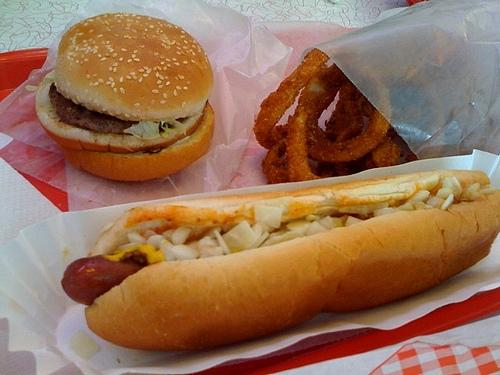onion: (295, 63, 390, 164), (252, 49, 330, 149), (372, 136, 420, 168), (262, 138, 288, 184), (258, 228, 304, 247), (201, 226, 231, 254), (335, 87, 350, 138), (338, 202, 388, 217), (254, 204, 283, 229), (356, 90, 376, 118), (245, 231, 269, 250), (172, 244, 200, 260), (159, 240, 178, 262), (442, 176, 462, 196), (304, 221, 329, 237), (459, 182, 480, 201), (171, 226, 191, 244), (406, 189, 430, 204), (318, 215, 340, 230), (197, 236, 219, 251), (146, 234, 166, 250), (374, 207, 398, 217), (127, 232, 147, 244), (426, 196, 444, 209), (115, 242, 140, 251), (440, 194, 454, 210), (344, 216, 364, 227), (161, 229, 175, 244), (412, 201, 432, 210), (397, 202, 415, 211), (252, 224, 262, 240), (267, 230, 287, 238), (142, 230, 158, 239), (469, 191, 480, 200), (305, 214, 316, 222)
